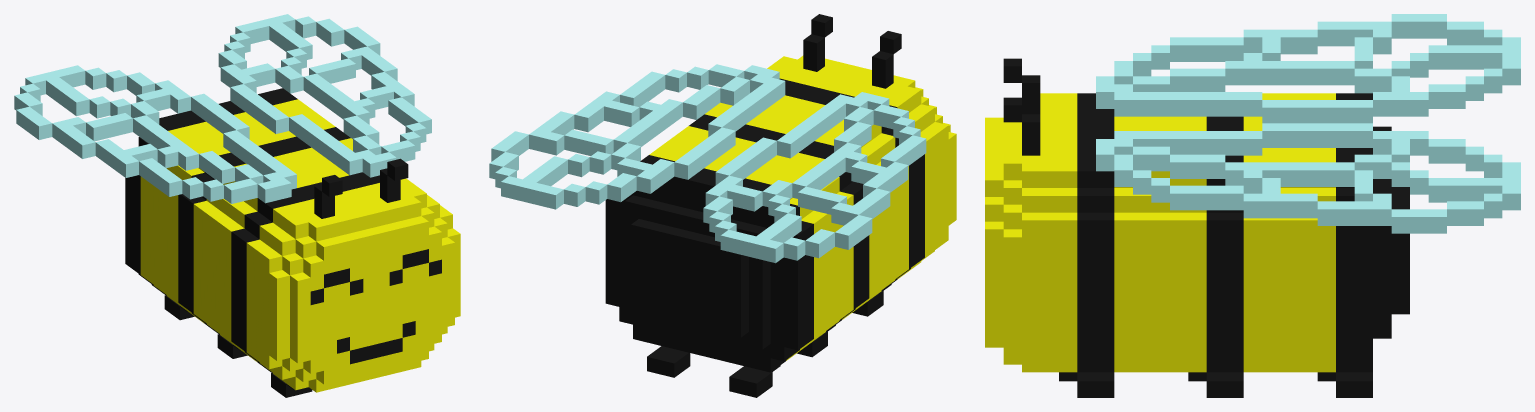
File: bee.obj
3 views of the same model, side by side, from view 1: azimuth 30°, elevation 25°; view 2: azimuth 150°, elevation 25°; view 3: azimuth 270°, elevation 25° (orthographic). The views are drawn at different scales.
Size of the model in its own units: 2.6 by 1.7 by 2.9.
Materials: 1 (1 with a texture image).
